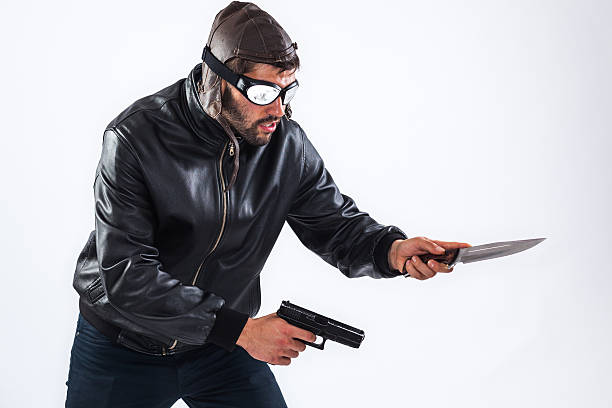gun: (275, 298, 367, 350)
knife: (400, 236, 547, 279)
